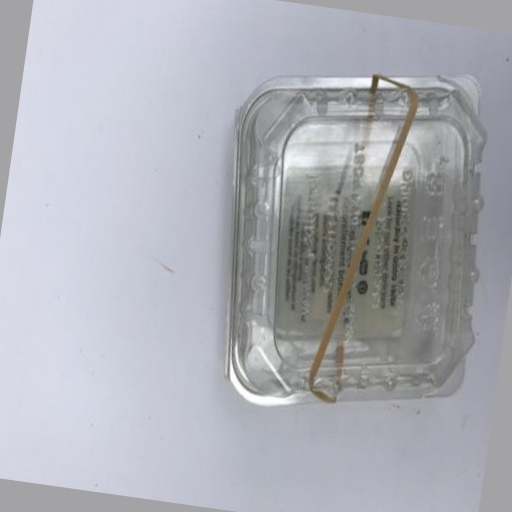Plastic_4: (225, 72, 488, 406)
